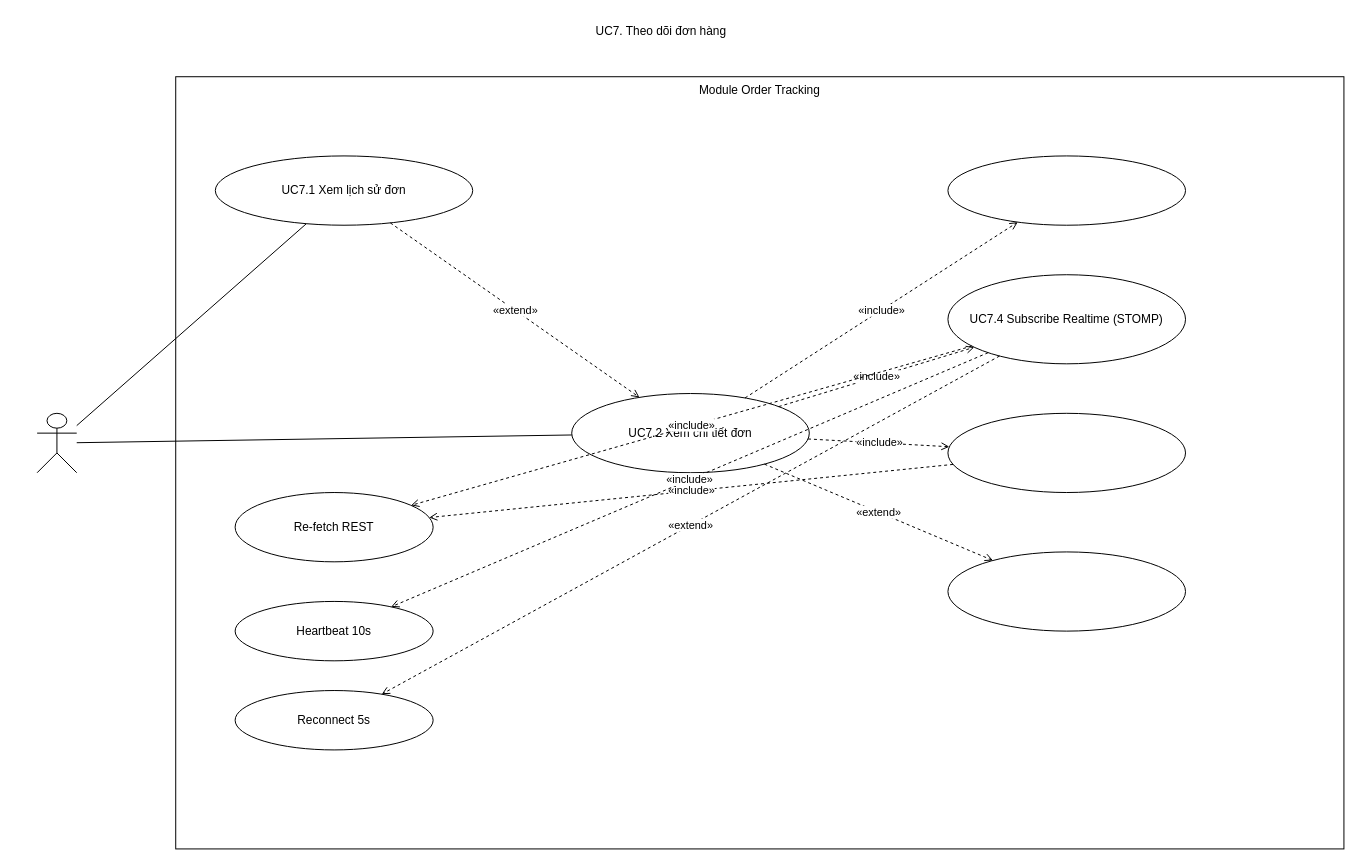
This 1361x866 diagram has some shape labels left out. Here are the shapes that lost their labels. From the top down, the box of each, then its label:
(947, 155, 1186, 225): UC7.3 Xem timeline status
(36, 412, 77, 473): Khách hàng
(947, 412, 1186, 493): UC7.5 Polling fallback (Timer 15s)
(947, 551, 1186, 631): UC7.6 Nhận FCM push
